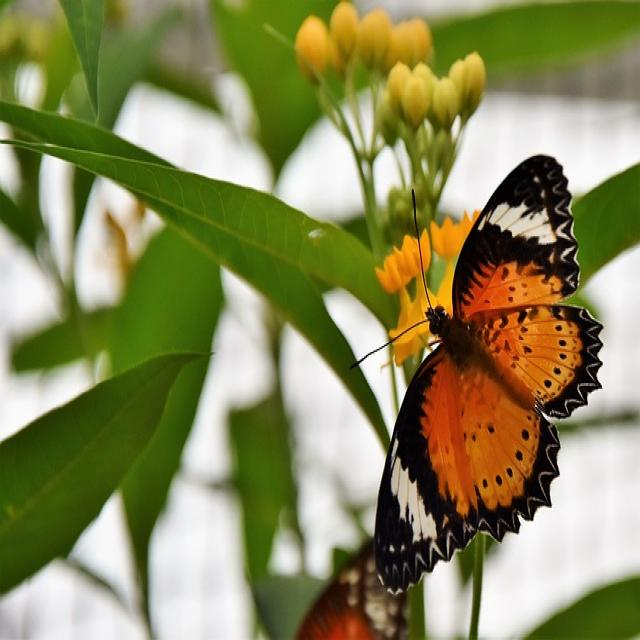butterfly: (371, 156, 601, 591)
